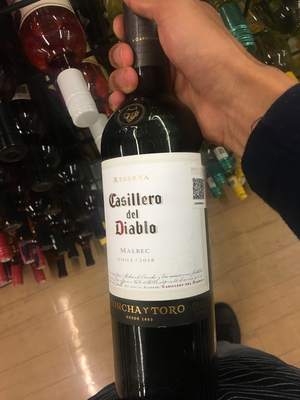casillero del diablo malbec: (84, 12, 241, 400)
